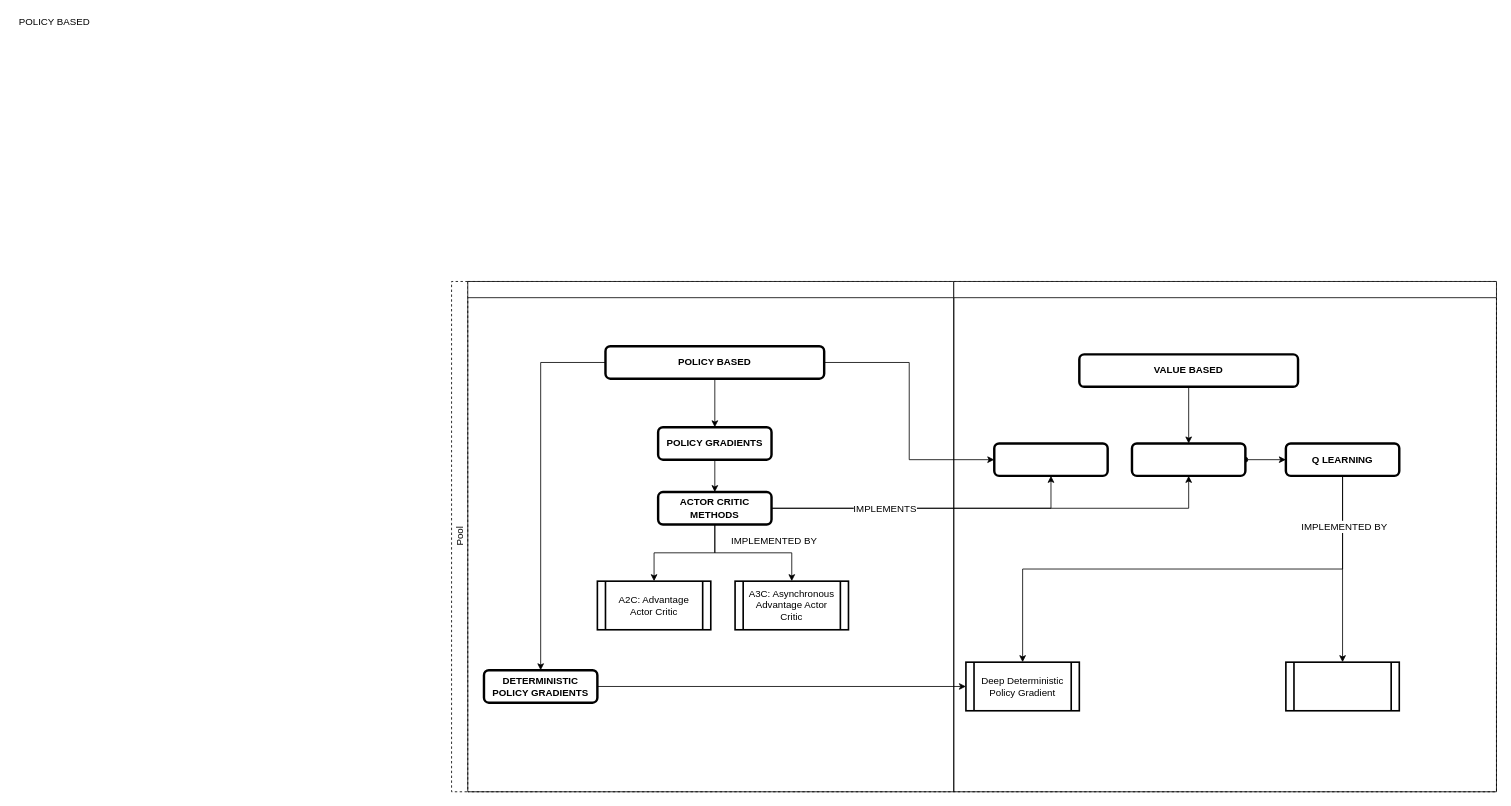
Image size: 1511x806. Some labels were removed from this diagram. Here are the shapes that lost their labels. From the top down, the box of each, then its label:
(993, 442, 1108, 477): POLICY ITERATION
(1130, 442, 1246, 477): VALUE ITERATION
(467, 281, 954, 792): POLICY OPTIMIZATION
(953, 281, 1496, 792): DYNAMIC PROGRAMMING
(1285, 661, 1400, 711): Deep Q Learning
